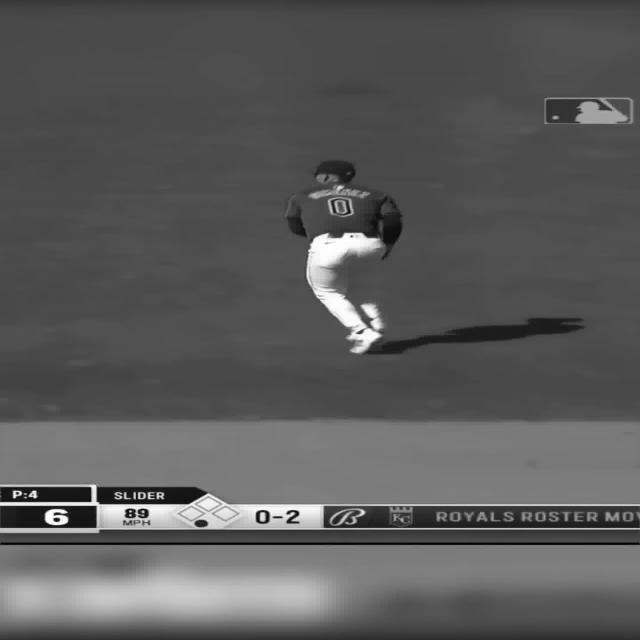shoe: (348, 328, 382, 354)
